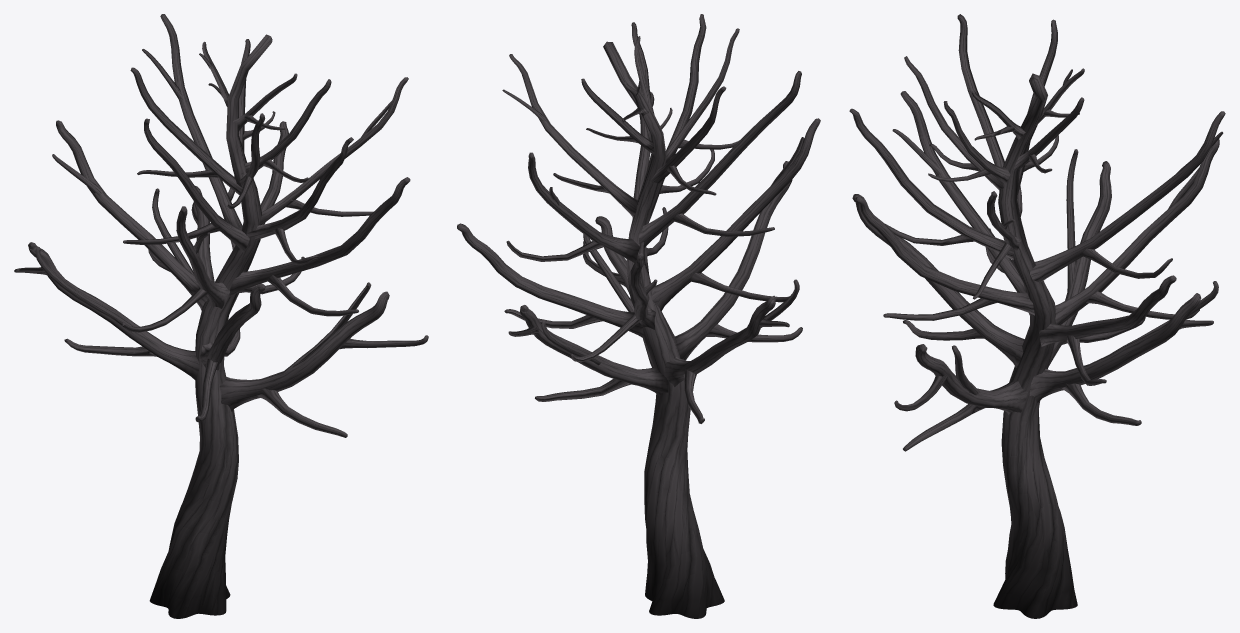
Rendered from DeadTree_1.glb.
The picture shows the model from 3 angles, left to right: view 1: azimuth 30°, elevation 25°; view 2: azimuth 150°, elevation 25°; view 3: azimuth 270°, elevation 25°; orthographic projection. The views are drawn at different scales.
Parts seen in each view (by area): view 1: DeadTree_1; view 2: DeadTree_1; view 3: DeadTree_1.
Boxes of the visible parts, bbox=[...] form: DeadTree_1: bbox=[14, 14, 428, 618]; DeadTree_1: bbox=[457, 14, 820, 618]; DeadTree_1: bbox=[849, 14, 1225, 618].
Size of the model in its own units: 6.15 by 9.5 by 5.75.
Materials: 1 (1 with a texture image).
